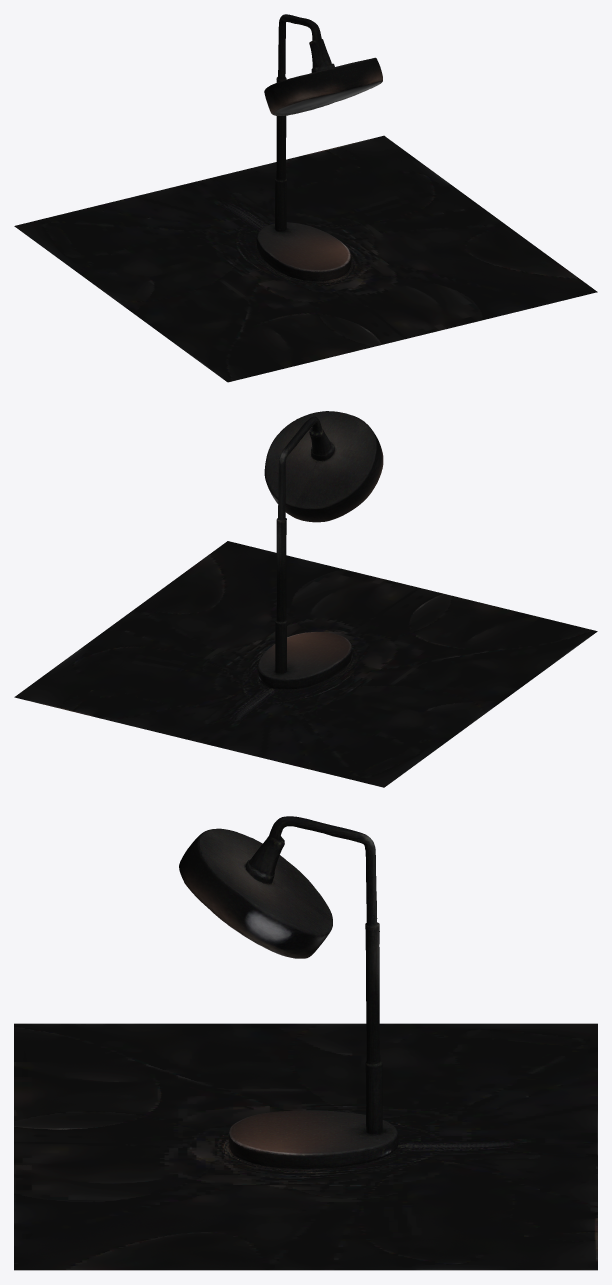
Rendered from lamp.glb.
3 renders of one model, top to bottom at view 1: azimuth 30°, elevation 25°; view 2: azimuth 150°, elevation 25°; view 3: azimuth 270°, elevation 25°, orthographic. The views are drawn at different scales.
Parts seen in each view (by area): view 1: world; view 2: world; view 3: world.
Boxes of the visible parts, box(x1,y1,x2,y2) form: world: box(14, 14, 597, 382); world: box(14, 411, 597, 787); world: box(14, 816, 597, 1270).
Bounding box in the file's own units: 1 × 0.6307 × 1.
1 material, 1 textured.
